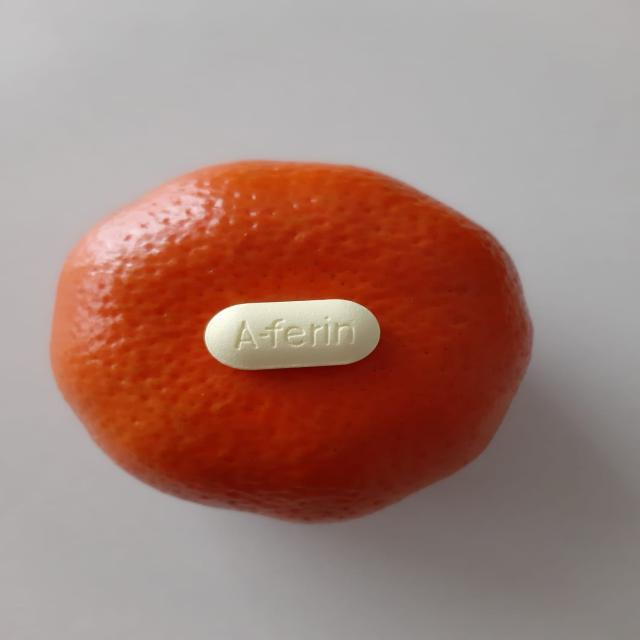pills: (203, 283, 387, 379)
